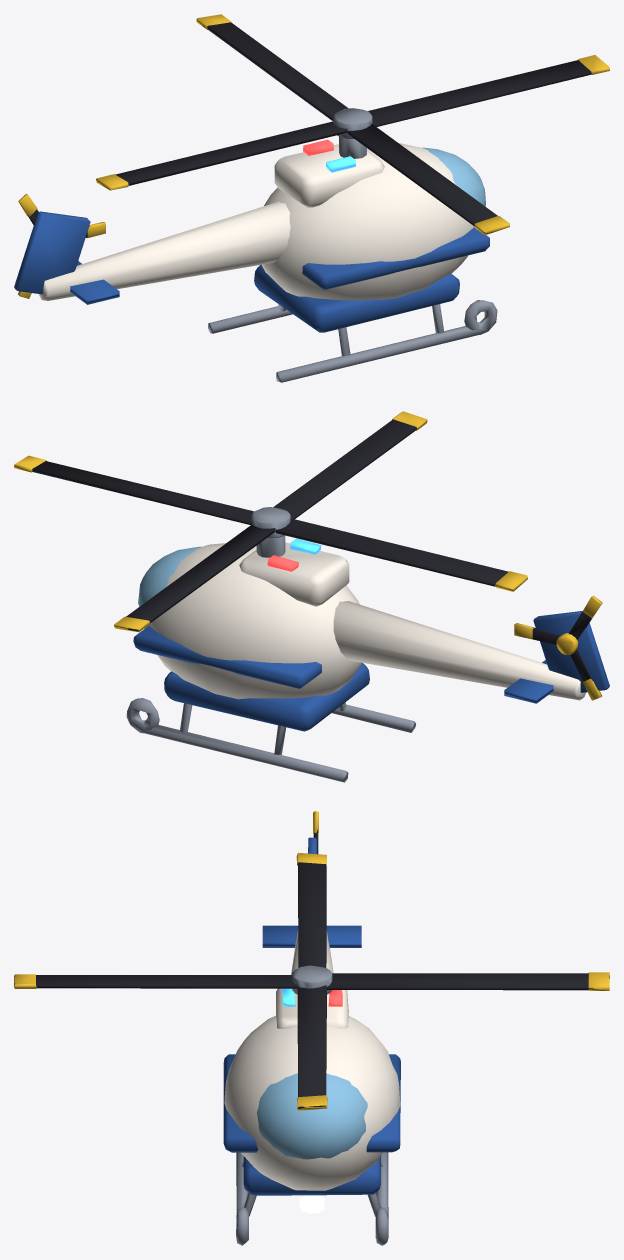
Rendered from heli.glb.
The picture shows the model from 3 angles, top to bottom: view 1: azimuth 30°, elevation 25°; view 2: azimuth 150°, elevation 25°; view 3: azimuth 270°, elevation 25°; orthographic projection. The views are drawn at different scales.
Parts seen in each view (by area): view 1: heli.008, rotor.008, tail_rotor.008; view 2: heli.008, rotor.008, tail_rotor.008; view 3: heli.008, rotor.008.
Part boxes in pixels (x1,y1,x2,y2): heli.008: (14,136,497,382); rotor.008: (96,14,609,235); tail_rotor.008: (18,194,105,298); heli.008: (126,535,609,782); rotor.008: (14,411,527,632); tail_rotor.008: (514,595,602,700); heli.008: (223,837,400,1245); rotor.008: (14,852,609,1110).
Size of the model in its own units: 7.53 by 2.65 by 6.4.
Materials: 1 (1 with a texture image).
